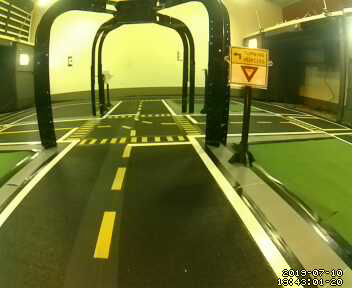Turn Yield: (231, 45, 268, 89)
